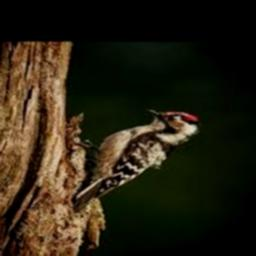Woodpecker: (75, 108, 201, 211)
